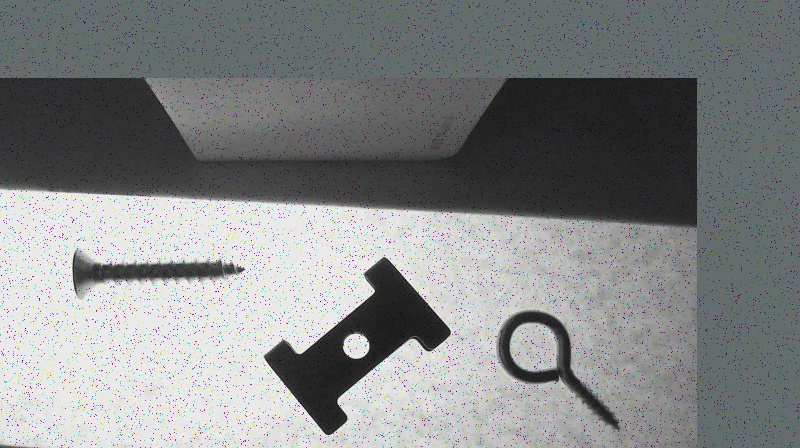O001: (494, 309, 619, 431)
O002: (263, 254, 451, 435)
S001: (69, 241, 247, 298)
